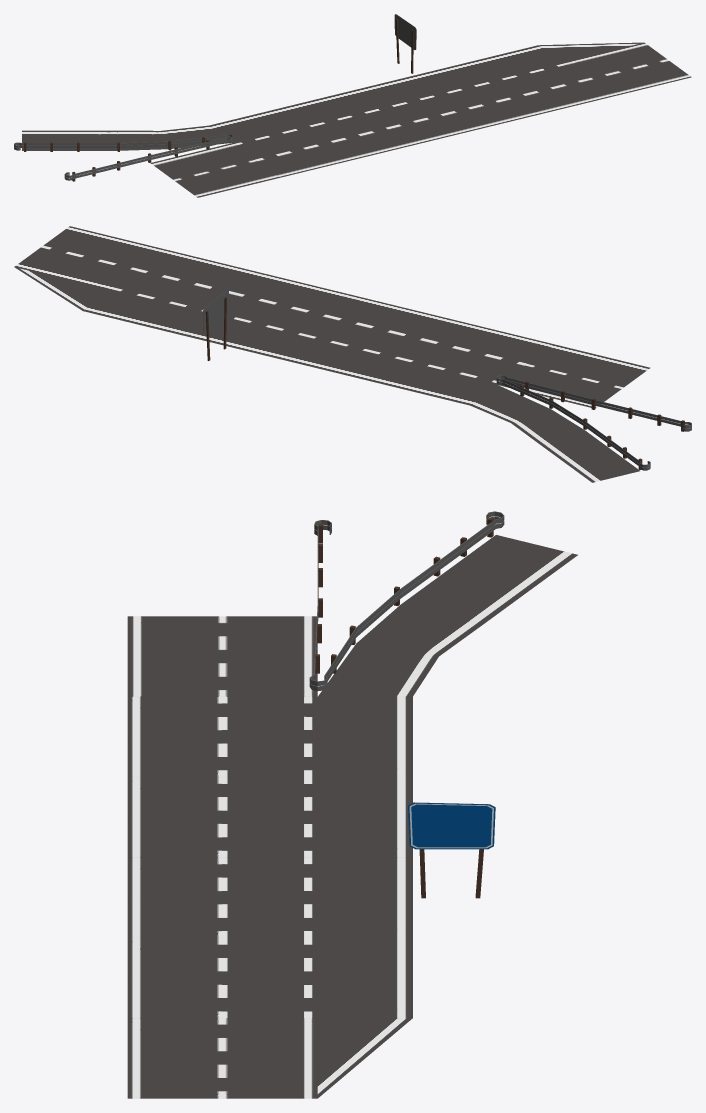
Rendered from offRamp_assets.fbx.
3 renders of one model, top to bottom at view 1: azimuth 30°, elevation 25°; view 2: azimuth 150°, elevation 25°; view 3: azimuth 270°, elevation 25°, orthographic. The views are drawn at different scales.
Parts seen in each view (by area): view 1: threeLaneRoad_01, threeLaneRoad_02, threeLaneRoad_06, threeLaneRoad_05, threeLaneStart_01, Road_01, offrampGuardRails, offrampRoad_01, offampStart_01, offRamp_Sign, guardRailPosts; view 2: threeLaneRoad_06, threeLaneRoad_05, threeLaneRoad_01, threeLaneRoad_02, threeLaneStart_01, Road_01, offampStart_01, offrampRoad_01, offrampGuardRails, offRamp_Sign, guardRailPosts; view 3: threeLaneRoad_02, threeLaneRoad_01, threeLaneRoad_05, threeLaneRoad_06, threeLaneStart_01, Road_01, offampStart_01, offrampRoad_01, offRamp_Sign, offrampGuardRails, guardRailPosts.
Part boxes in pixels (x1=…): threeLaneRoad_01: x1=456, y1=45, x2=609, y2=117; threeLaneRoad_02: x1=374, y1=65, x2=526, y2=137; threeLaneRoad_06: x1=291, y1=85, x2=444, y2=157; threeLaneRoad_05: x1=209, y1=105, x2=361, y2=177; threeLaneStart_01: x1=539, y1=42, x2=691, y2=97; Road_01: x1=150, y1=143, x2=279, y2=197; offrampGuardRails: x1=14, y1=134, x2=232, y2=180; offrampRoad_01: x1=22, y1=130, x2=117, y2=150; offampStart_01: x1=117, y1=125, x2=231, y2=150; offRamp_Sign: x1=394, y1=14, x2=416, y2=73; guardRailPosts: x1=24, y1=137, x2=209, y2=181; threeLaneRoad_06: x1=277, y1=297, x2=456, y2=381; threeLaneRoad_05: x1=374, y1=320, x2=553, y2=405; threeLaneRoad_01: x1=83, y1=250, x2=262, y2=334; threeLaneRoad_02: x1=180, y1=273, x2=359, y2=358; threeLaneStart_01: x1=14, y1=226, x2=166, y2=310; Road_01: x1=498, y1=344, x2=650, y2=407; offampStart_01: x1=470, y1=385, x2=584, y2=441; offrampRoad_01: x1=537, y1=430, x2=639, y2=482; offrampGuardRails: x1=496, y1=375, x2=691, y2=470; offRamp_Sign: x1=203, y1=290, x2=228, y2=360; guardRailPosts: x1=520, y1=381, x2=684, y2=469; threeLaneRoad_02: x1=127, y1=857, x2=412, y2=937; threeLaneRoad_01: x1=127, y1=938, x2=412, y2=1018; threeLaneRoad_05: x1=127, y1=696, x2=412, y2=776; threeLaneRoad_06: x1=127, y1=777, x2=412, y2=857; threeLaneStart_01: x1=127, y1=1018, x2=412, y2=1098; Road_01: x1=127, y1=616, x2=317, y2=696; offampStart_01: x1=318, y1=604, x2=482, y2=696; offrampRoad_01: x1=401, y1=535, x2=577, y2=624; offRamp_Sign: x1=408, y1=802, x2=495, y2=898; offrampGuardRails: x1=309, y1=511, x2=504, y2=691; guardRailPosts: x1=315, y1=518, x2=493, y2=673.
Bounding box in the file's own units: 0.711 × 0.0555 × 0.237.
